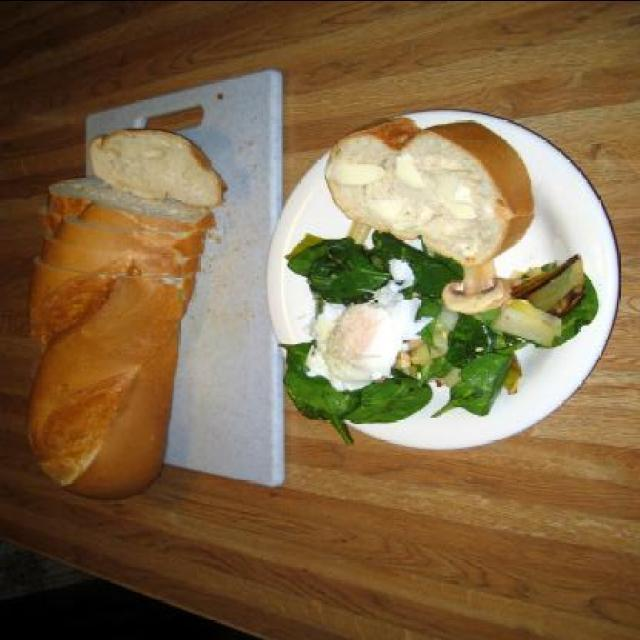Cheese: (303, 256, 432, 394), (436, 170, 478, 222), (364, 194, 422, 231), (324, 162, 386, 190), (392, 148, 424, 186)
